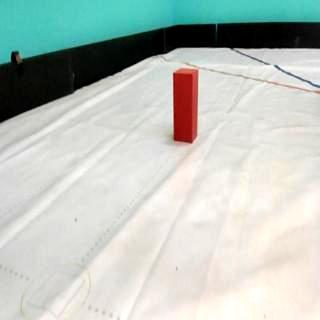redbox: (173, 67, 199, 143)
